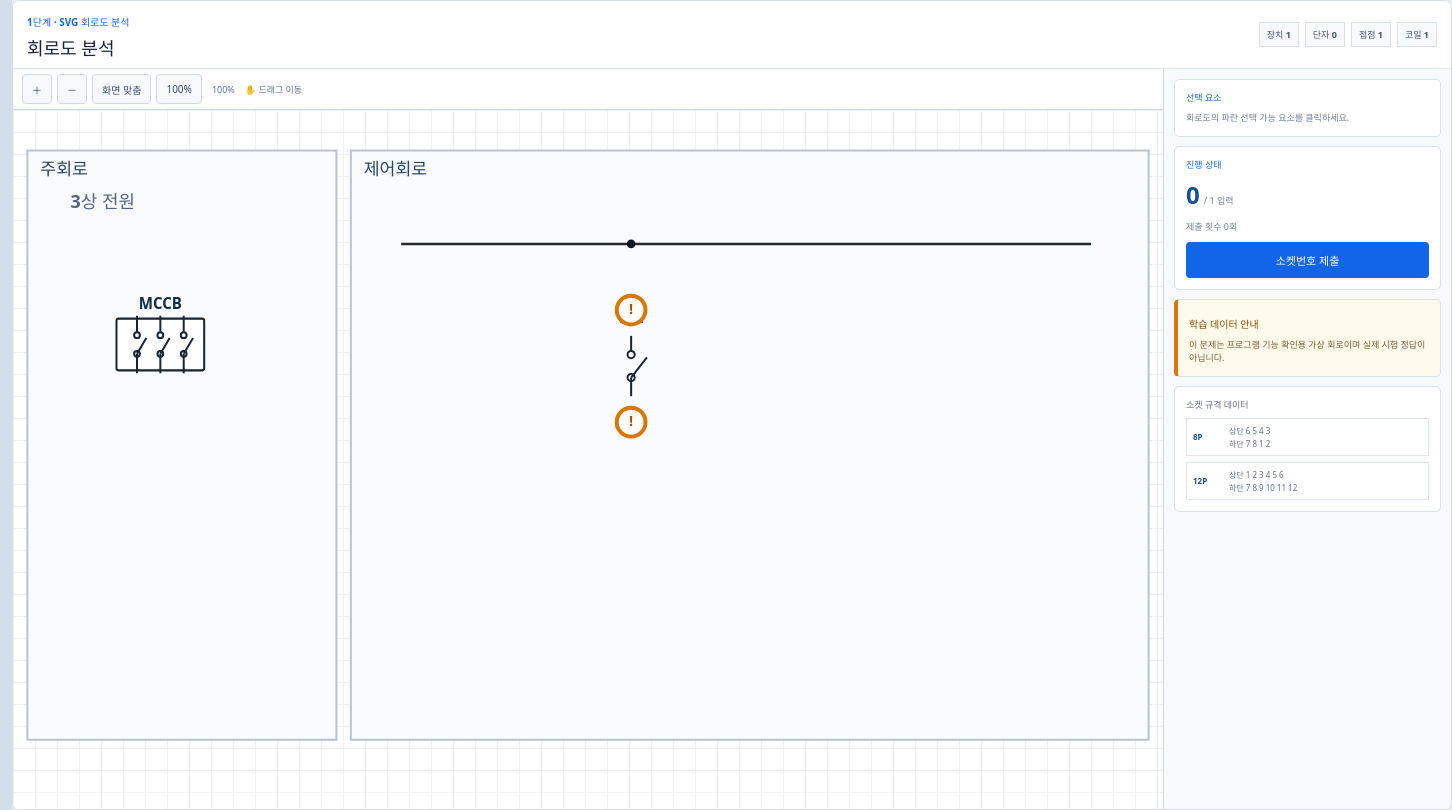
Test: 회로 데이터 진단 › supports zoom controls and incomplete submission warning
Click the button named "확대". click: (37,89)
box: 22,74 -> 52,104
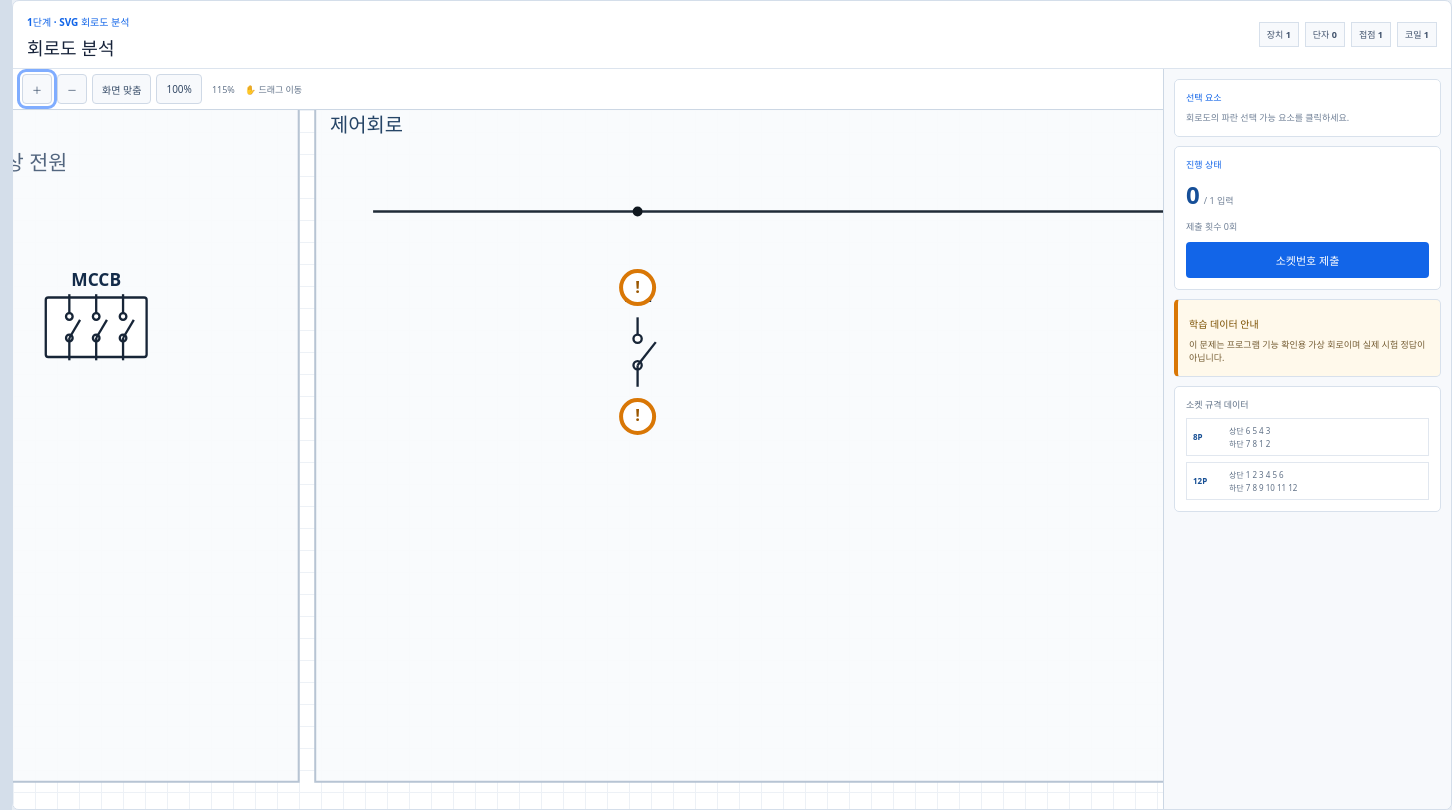
Now the text "115%" is shown, box 212,82 -> 235,96
Click the button "소켓번호 제출". click: (1308,260)
box: 1186,242 -> 1429,278
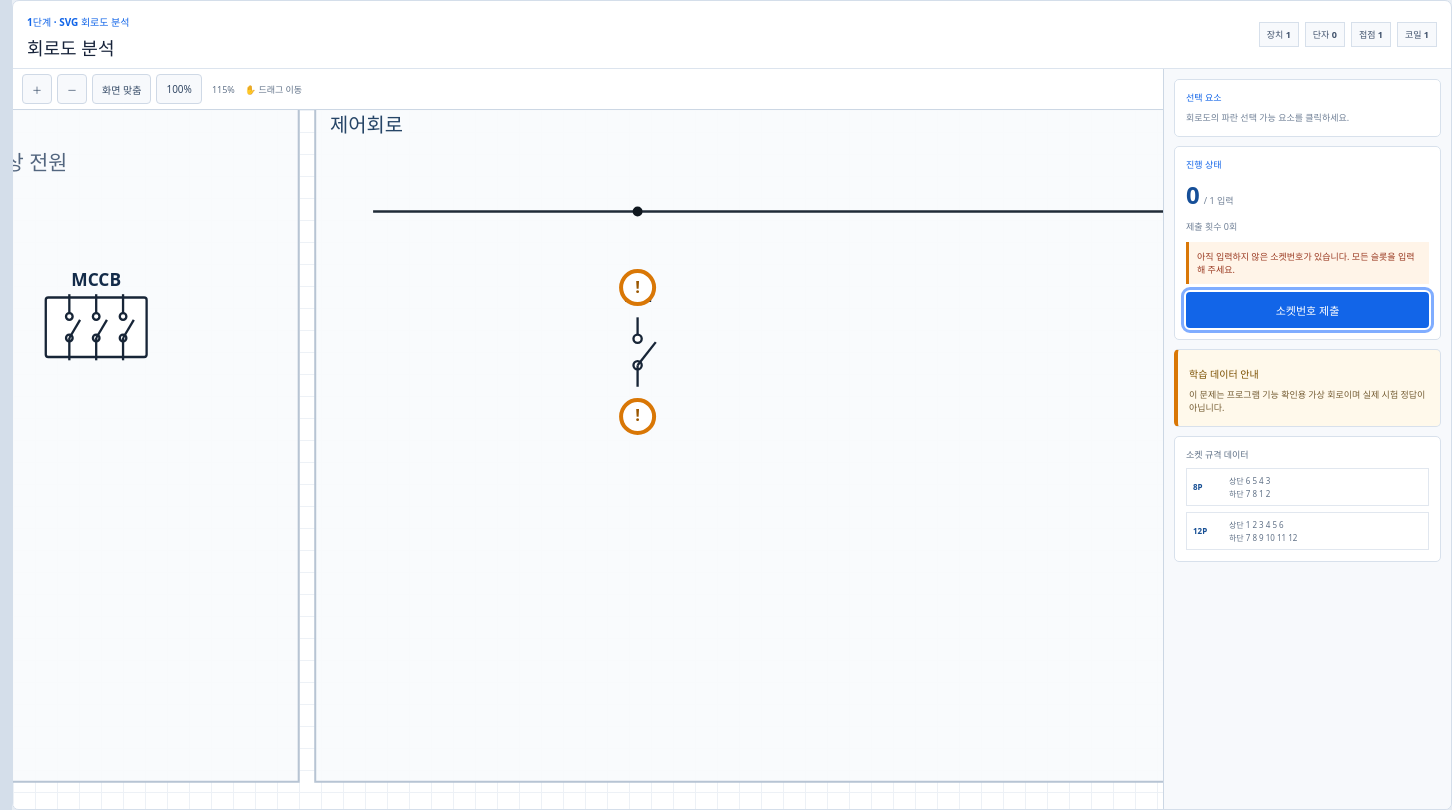
Now the message shows "아직 입력하지 않은", box 1197,250 -> 1414,276
